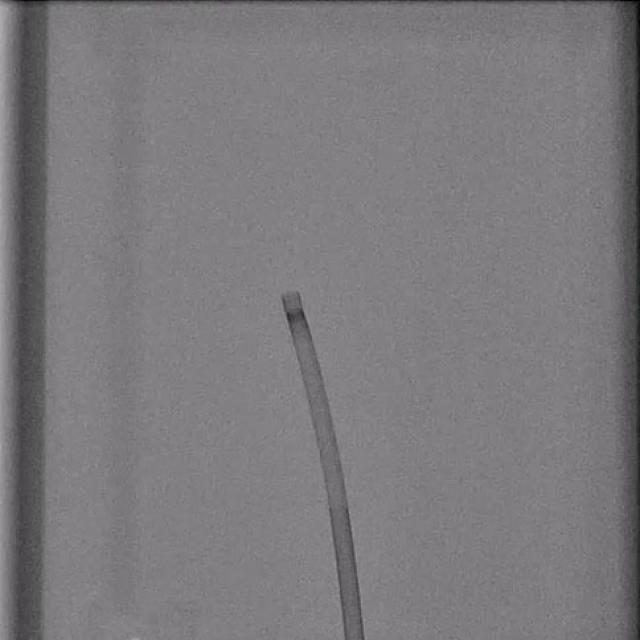bend: (327, 497, 349, 512)
entry: (345, 634, 365, 640)
marker: (286, 310, 307, 325)
tip: (282, 289, 300, 297)
